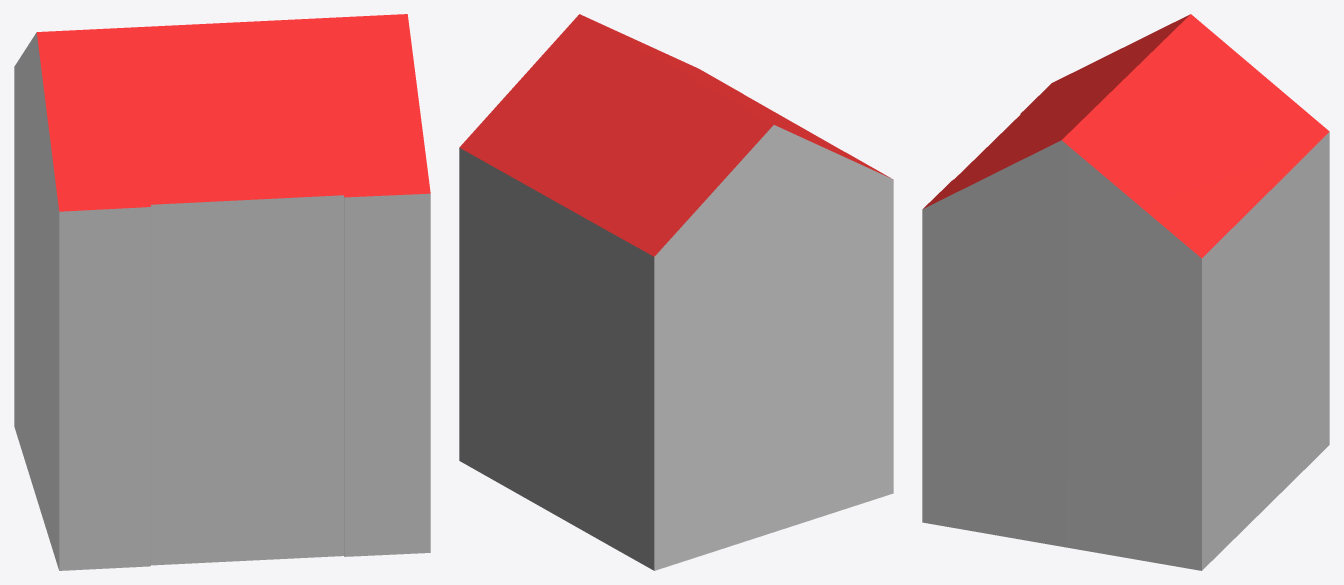
File: DEBY_LOD2_4907188.dae
3 views of the same model, side by side, from view 1: azimuth 30°, elevation 25°; view 2: azimuth 150°, elevation 25°; view 3: azimuth 270°, elevation 25° (orthographic). The views are drawn at different scales.
Size of the model in its own units: 16.99 by 16.73 by 18.42.
